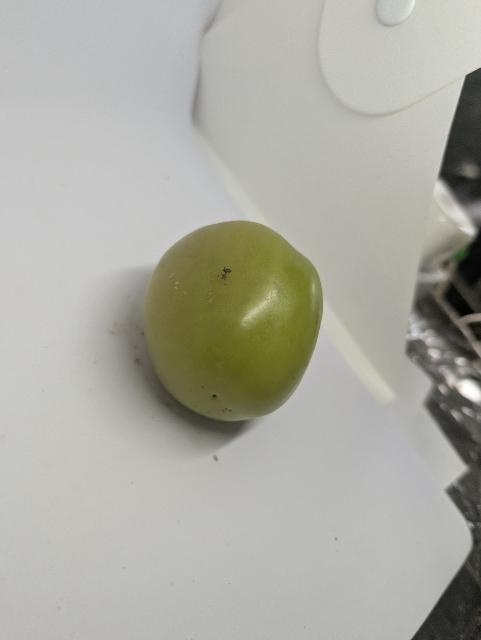green: (132, 206, 344, 438)
